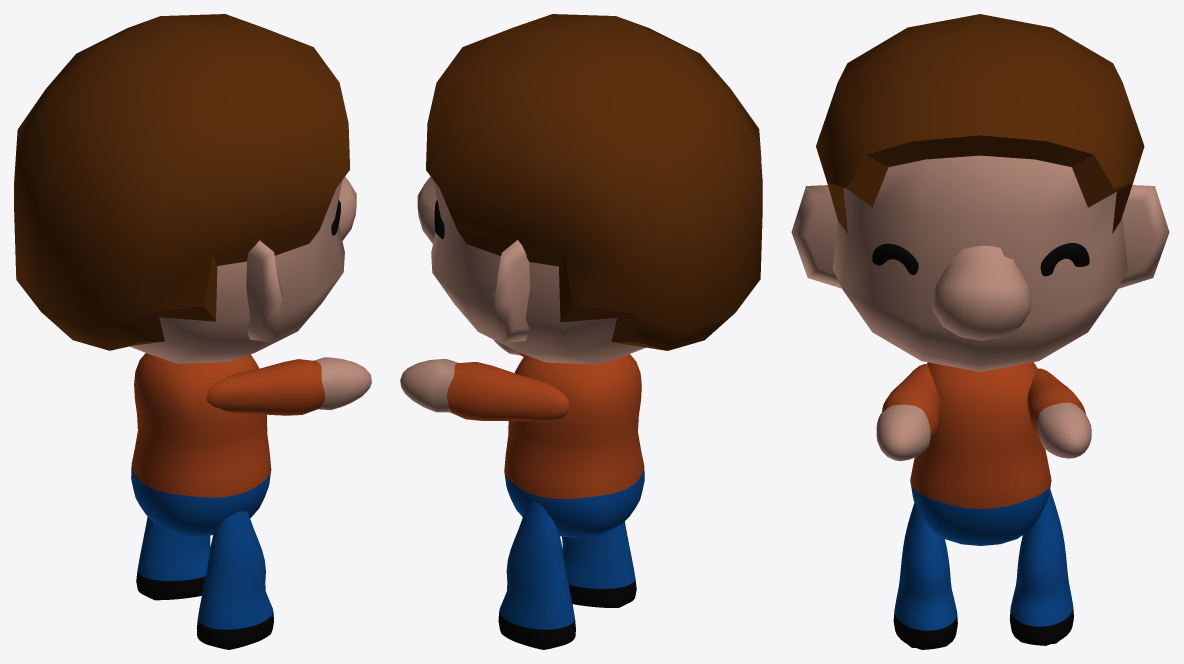
File: GuyOne.fbx
3 renders of one model, left to right at view 1: azimuth 30°, elevation 25°; view 2: azimuth 150°, elevation 25°; view 3: azimuth 270°, elevation 25°, orthographic.
Visible parts, largest first — view 1: polySurface318, polySurface319, polySurface323, polySurface324, polySurface328, polySurface321, polySurface320; view 2: polySurface318, polySurface319, polySurface328, polySurface327, polySurface323, polySurface322, polySurface320; view 3: polySurface318, polySurface319, polySurface320, polySurface328, polySurface323, polySurface324, polySurface327, polySurface322, polySurface321, polySurface326, polySurface325.
Boxes of the visible parts, x1,y1,x2,y2 form: polySurface318: [14, 14, 350, 363]; polySurface319: [131, 353, 271, 536]; polySurface323: [197, 511, 273, 649]; polySurface324: [206, 357, 371, 415]; polySurface328: [136, 517, 210, 600]; polySurface321: [246, 240, 282, 342]; polySurface320: [339, 176, 356, 240]; polySurface318: [426, 14, 762, 364]; polySurface319: [504, 354, 644, 538]; polySurface328: [498, 501, 575, 649]; polySurface327: [400, 359, 569, 421]; polySurface323: [562, 521, 636, 607]; polySurface322: [493, 240, 530, 342]; polySurface320: [417, 176, 437, 243]; polySurface318: [816, 14, 1144, 371]; polySurface319: [910, 362, 1051, 545]; polySurface320: [932, 245, 1031, 340]; polySurface328: [1010, 489, 1073, 645]; polySurface323: [893, 503, 957, 649]; polySurface324: [876, 364, 940, 461]; polySurface327: [1027, 368, 1091, 458]; polySurface322: [1118, 185, 1169, 288]; polySurface321: [791, 185, 841, 288]; polySurface326: [1040, 243, 1089, 276]; polySurface325: [872, 243, 918, 274].
Bounding box in the file's own units: 0.5432 × 0.9759 × 0.563.
